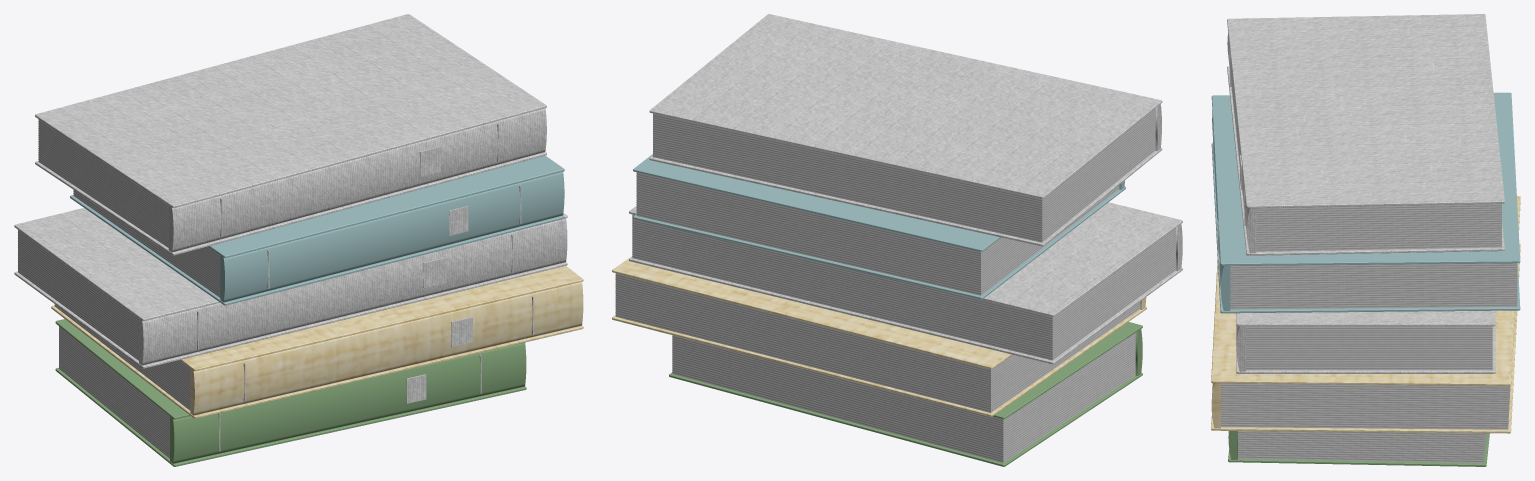
File: books-stacked.glb
The picture shows the model from 3 angles, left to right: view 1: azimuth 30°, elevation 25°; view 2: azimuth 150°, elevation 25°; view 3: azimuth 270°, elevation 25°; orthographic projection.
Visible parts, largest first — view 1: catalog_surface_RealismUV, catalog_surface_UVMap; view 2: catalog_surface_RealismUV, catalog_surface_UVMap; view 3: catalog_surface_RealismUV, catalog_surface_UVMap.
Part boxes in pixels (box(x1,y1,x2,y2)): catalog_surface_RealismUV: box(14, 14, 583, 466); catalog_surface_UVMap: box(70, 155, 564, 305); catalog_surface_RealismUV: box(612, 14, 1182, 466); catalog_surface_UVMap: box(633, 154, 1125, 299); catalog_surface_RealismUV: box(1211, 14, 1520, 466); catalog_surface_UVMap: box(1211, 92, 1520, 313).
Bounding box in the file's own units: 0.4118 × 0.245 × 0.254.
Materials: 5 (3 with a texture image).
